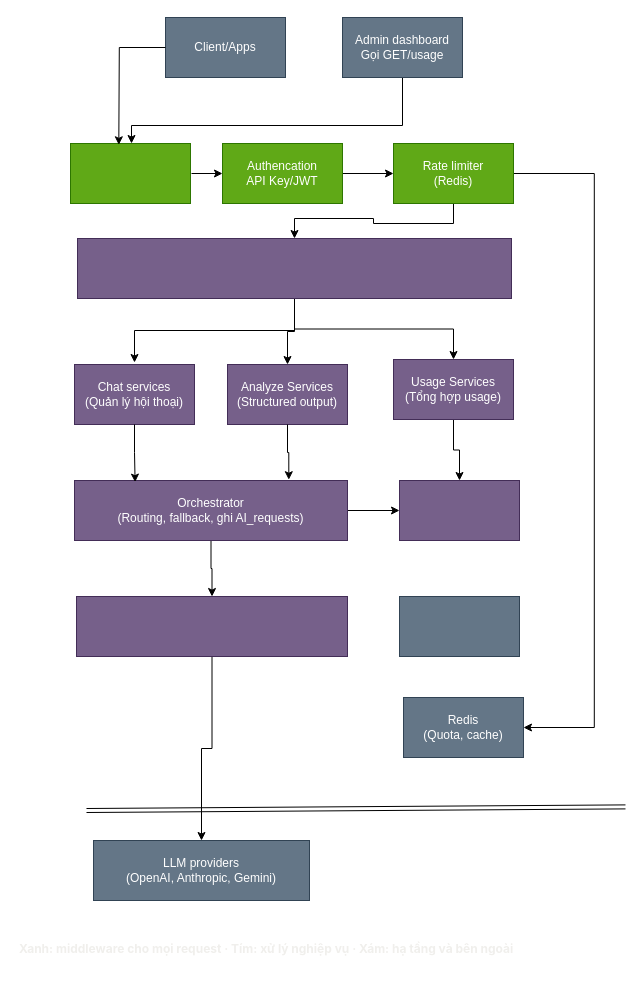
Some shapes in this 643 by 990 pixel diagram are drawn without their labels. The shapes that lost their labels are listed below. From the top down, each one's centre as x and y in pixels, then its label:
pixel 130 173: Request ID+Log
pixel 294 268: Routes/Controllers Validate input theo schema từng endpoint
pixel 459 510: Repositories (Truy cập dữ liệu)
pixel 212 626: Provider Adapters (Timeout, retry, chuẩn hóa output)
pixel 459 626: PostgreSQL (Dữ liệu lâu dài)
